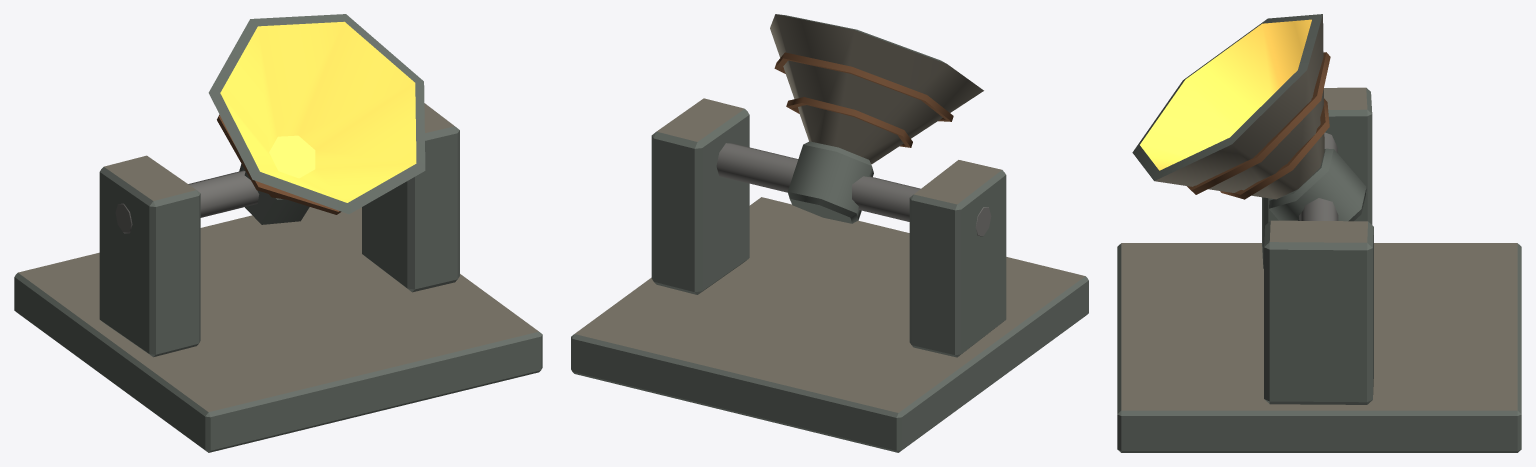
The model's file is R4X_DeployableAmplifier_LOD1.fbx.
3 views of the same model, side by side, from view 1: azimuth 30°, elevation 25°; view 2: azimuth 150°, elevation 25°; view 3: azimuth 270°, elevation 25° (orthographic). The views are drawn at different scales.
Visible parts, largest first — view 1: R4X_DeployableAmplifier_LOD1; view 2: R4X_DeployableAmplifier_LOD1; view 3: R4X_DeployableAmplifier_LOD1.
Part boxes in pixels (x1=…): R4X_DeployableAmplifier_LOD1: x1=14, y1=14, x2=542, y2=452; R4X_DeployableAmplifier_LOD1: x1=571, y1=14, x2=1088, y2=452; R4X_DeployableAmplifier_LOD1: x1=1117, y1=14, x2=1521, y2=452.
Bounding box in the file's own units: 0.52 × 0.4847 × 0.52.
